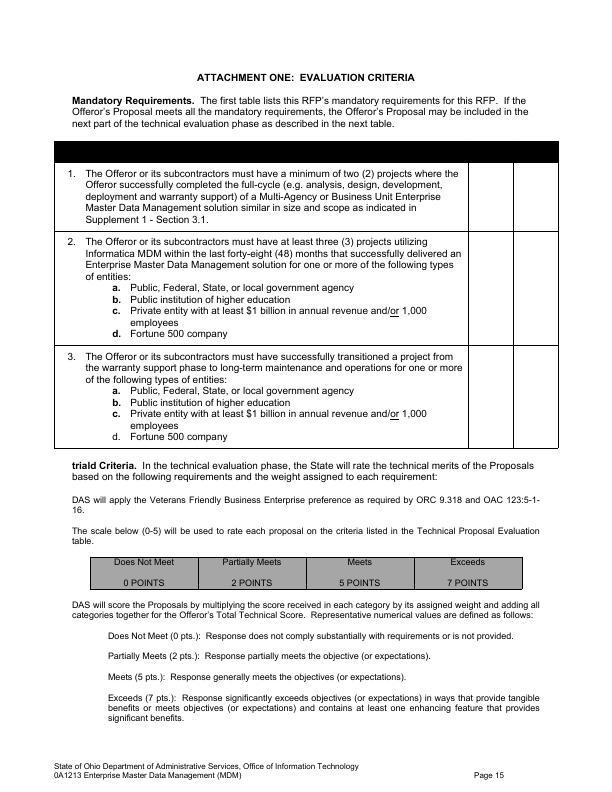table: (49, 138, 564, 453), (85, 554, 526, 593)
text: (68, 598, 547, 726), (70, 458, 545, 548), (68, 91, 534, 130), (51, 757, 363, 784), (194, 66, 417, 85), (470, 768, 511, 780)
